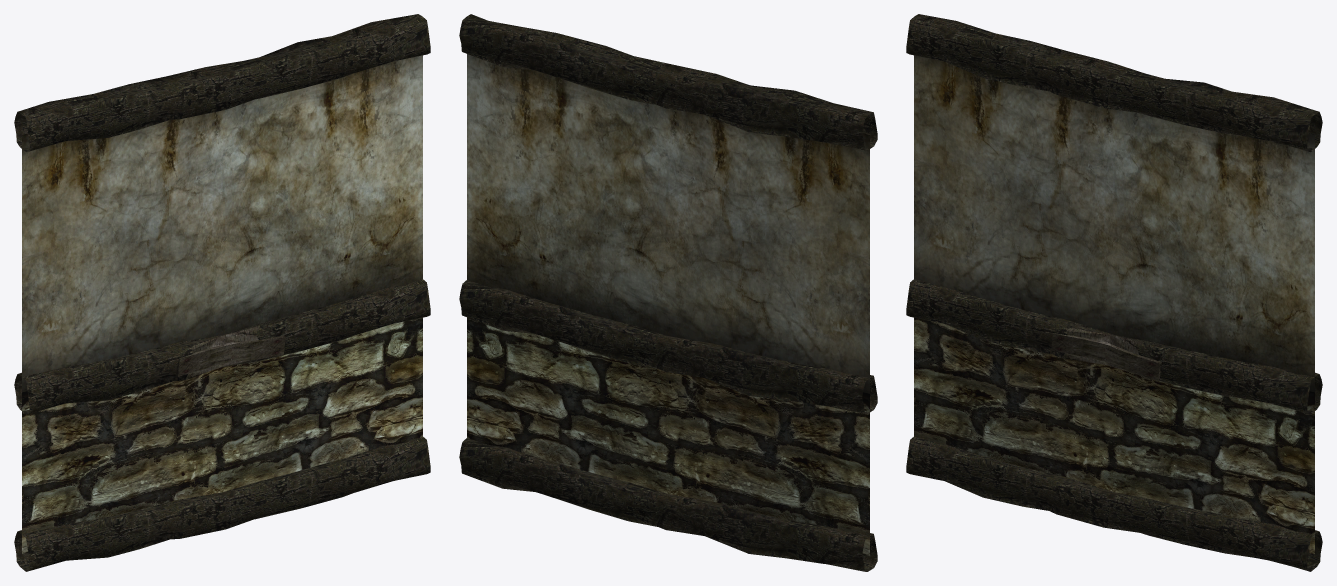
File: default_decayed03.dae
The picture shows the model from 3 angles, left to right: view 1: azimuth 30°, elevation 25°; view 2: azimuth 150°, elevation 25°; view 3: azimuth 330°, elevation 25°; orthographic projection.
Visible parts, largest first — view 1: pPlane2, polySurface1, pCube1; view 2: pPlane2, polySurface1; view 3: pPlane2, polySurface1, pCube1.
Part boxes in pixels (x1,y1,x2,y2): pPlane2: [22, 55, 422, 554]; polySurface1: [14, 14, 430, 571]; pCube1: [176, 335, 285, 376]; pPlane2: [467, 54, 869, 556]; polySurface1: [459, 14, 877, 571]; pPlane2: [914, 55, 1314, 554]; polySurface1: [906, 14, 1322, 571]; pCube1: [1051, 333, 1161, 380].
Bounding box in the file's own units: 4 × 4.43 × 0.3321.
